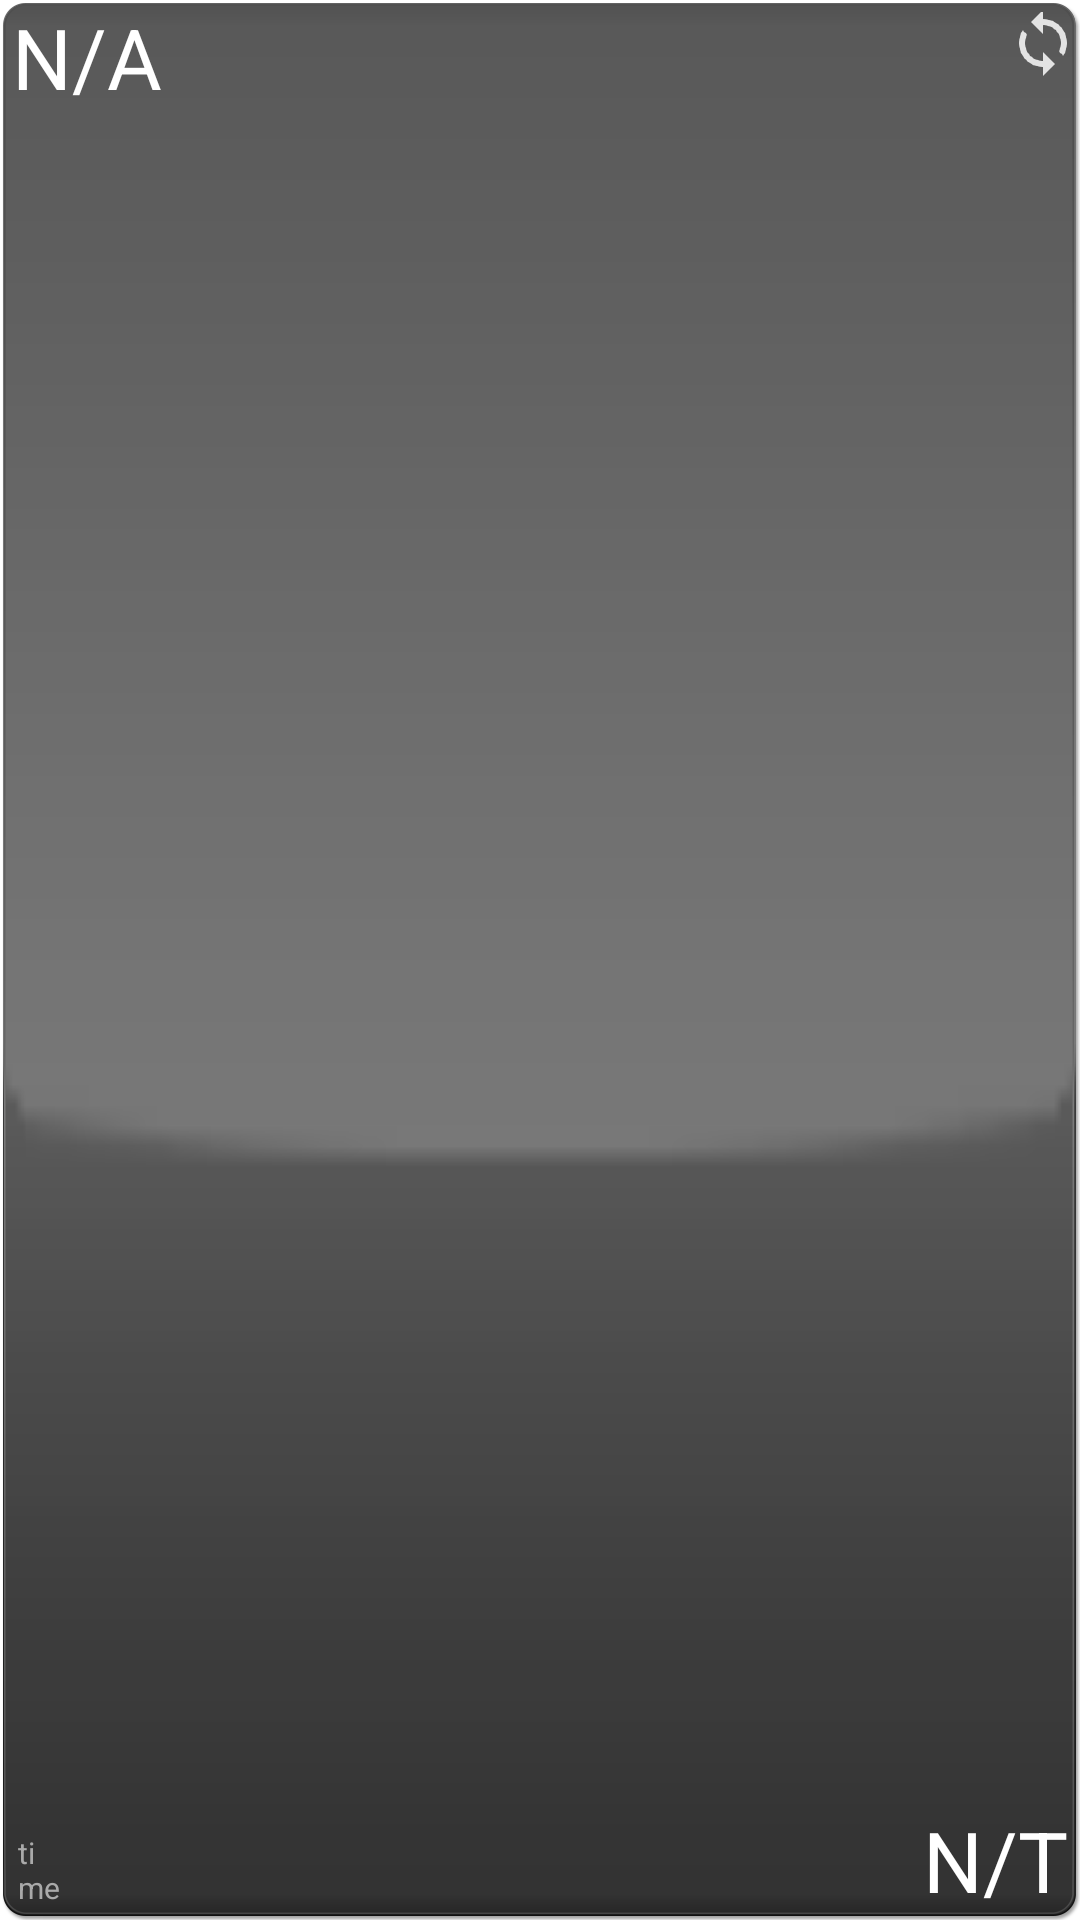

Point at icon controls on the screen. Image size 1080 x 1920, points as (x,y).
perm group sync settings: (1043,44)
